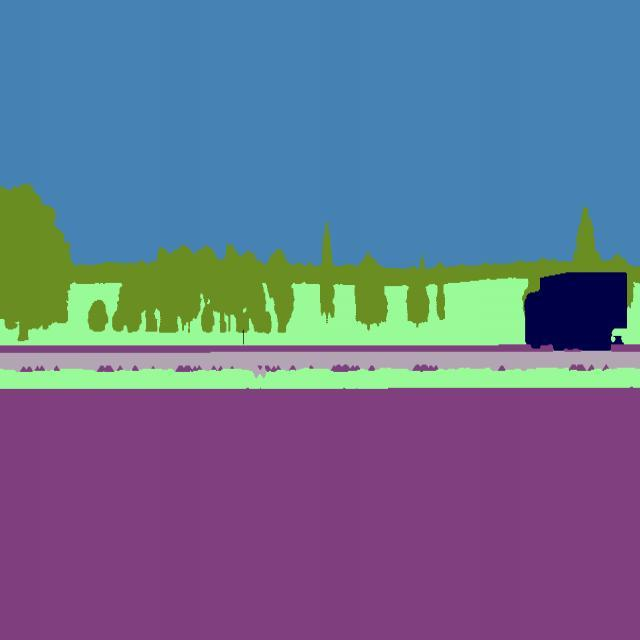safe: (520, 268, 636, 368)
